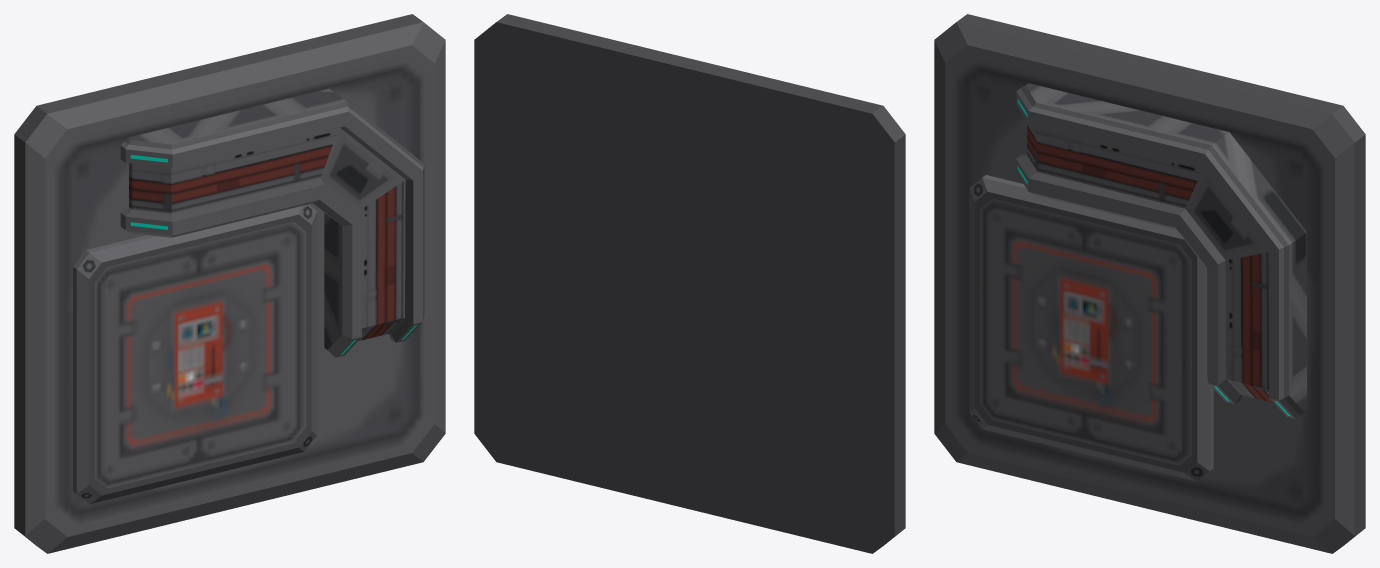
File: SM_Prop_Greebles_13.fbx
The picture shows the model from 3 angles, left to right: view 1: azimuth 30°, elevation 25°; view 2: azimuth 150°, elevation 25°; view 3: azimuth 330°, elevation 25°; orthographic projection.
Parts seen in each view (by area): view 1: SM_Prop_Greebles_13; view 2: SM_Prop_Greebles_13; view 3: SM_Prop_Greebles_13.
Part boxes in pixels (<box>): SM_Prop_Greebles_13: <box>14,14,445,553</box>; SM_Prop_Greebles_13: <box>474,14,905,553</box>; SM_Prop_Greebles_13: <box>934,14,1365,553</box>.
Size of the model in its own units: 142 by 142 by 21.99.
